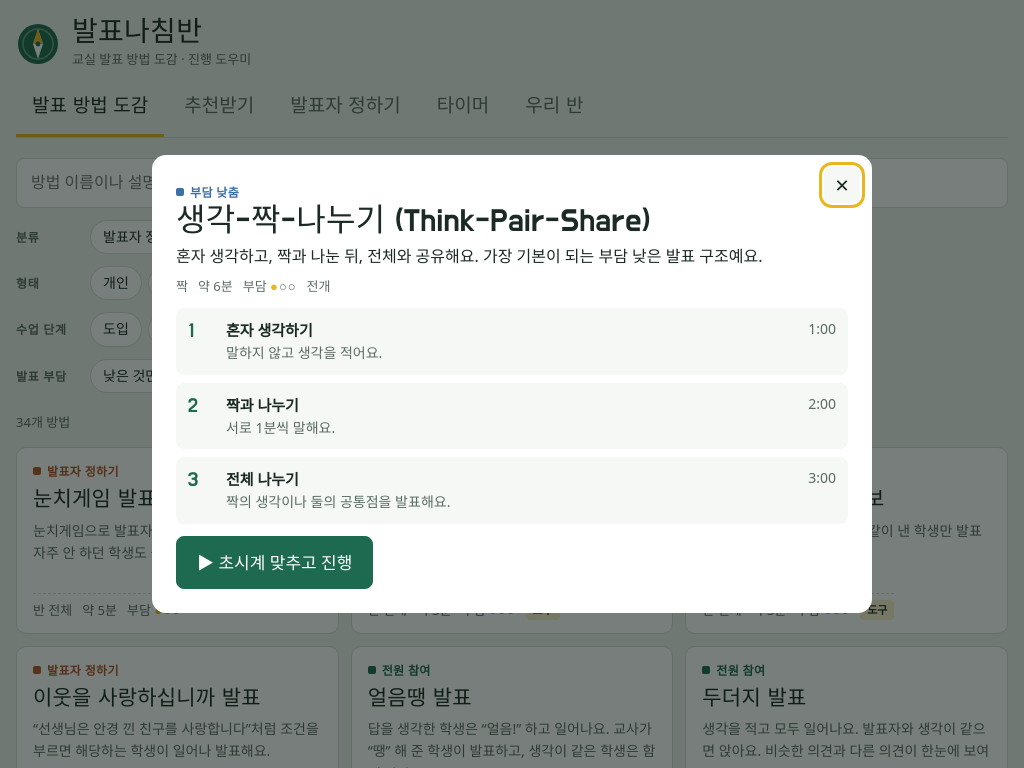
Test: 진행·도구 › 레시피 이름 칸에서 Enter를 누르면 진행이 아니라 저장된다
This screenshot has width=1024, height=768.
Click the button "▶ 초시계 맞추고 진행".
click(275, 562)  # box [176,536,373,589]
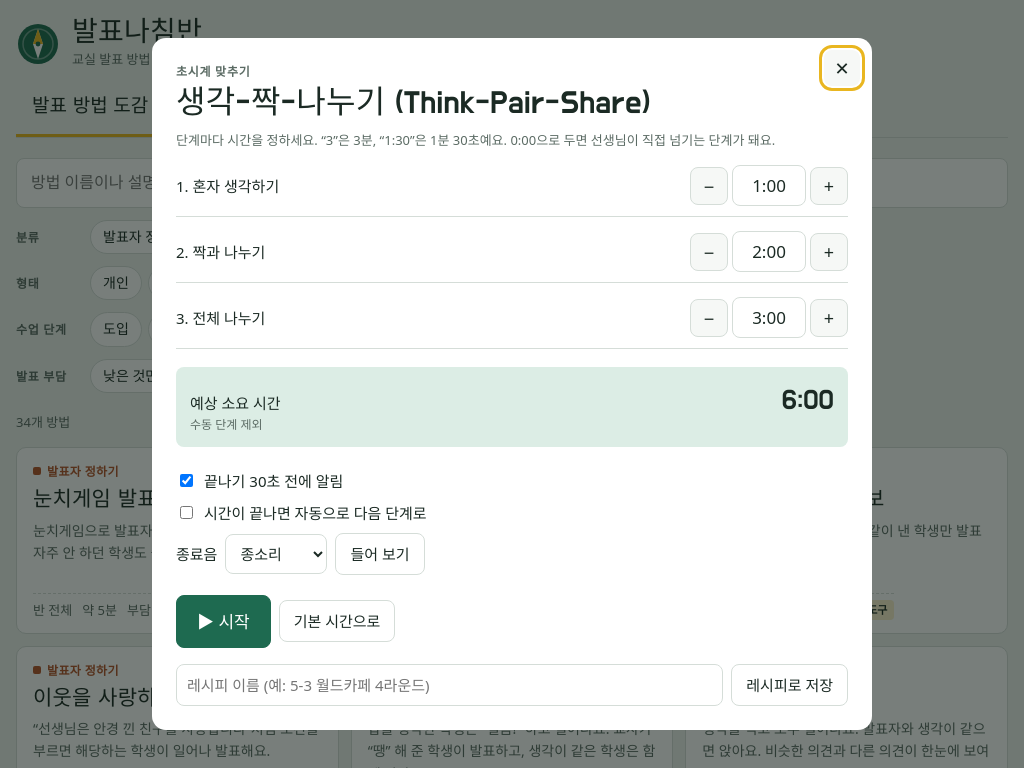
Type "엔터 레시피" into the field labelled "레시피 이름".
click(450, 685); type("엔터 레시피")  # box [176,664,723,706]
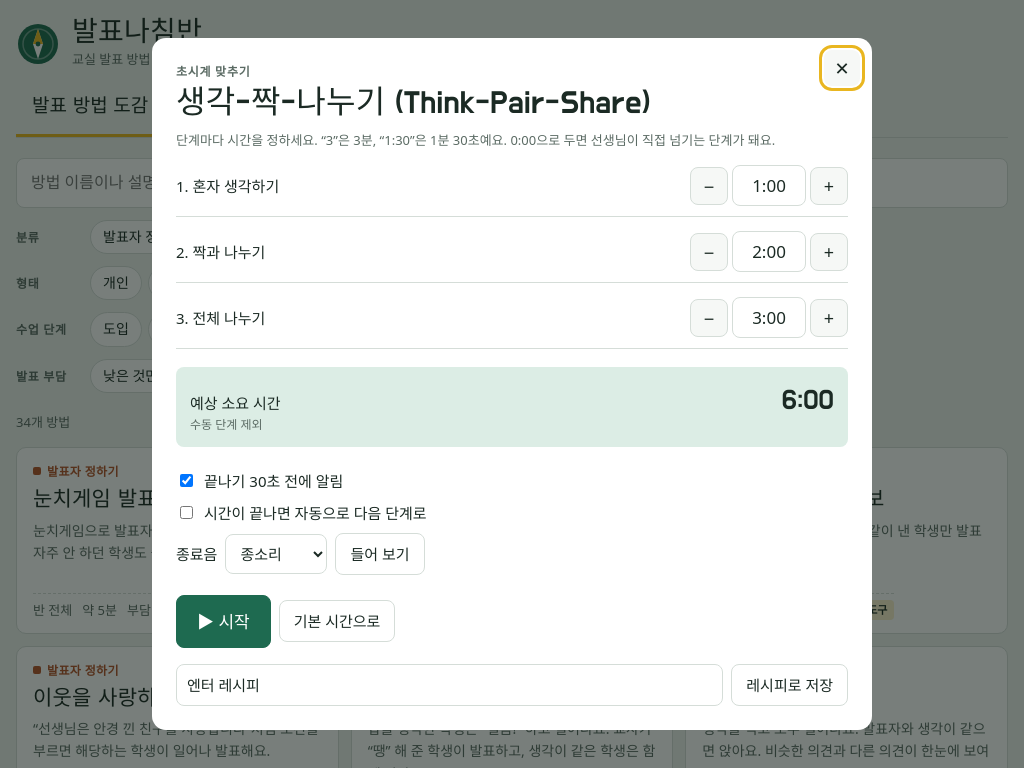
Press Enter in the field named "레시피 이름", box [176,664,723,706]
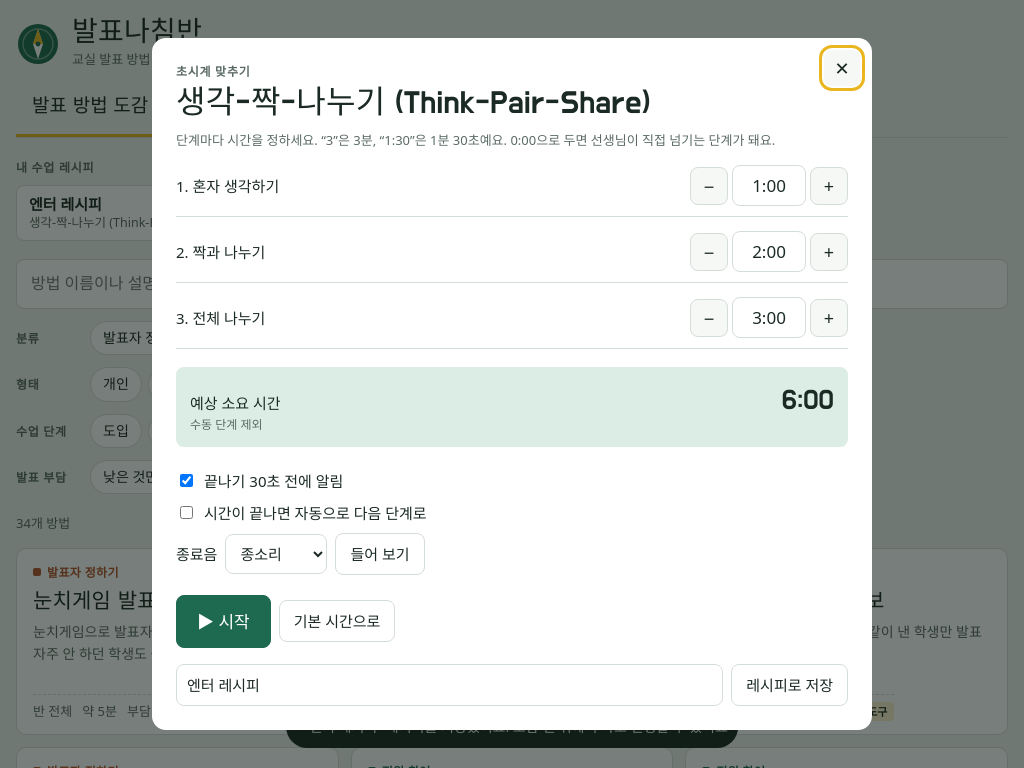
Check: the text "엔터 레시피" is shown, box [29,194,102,214]
